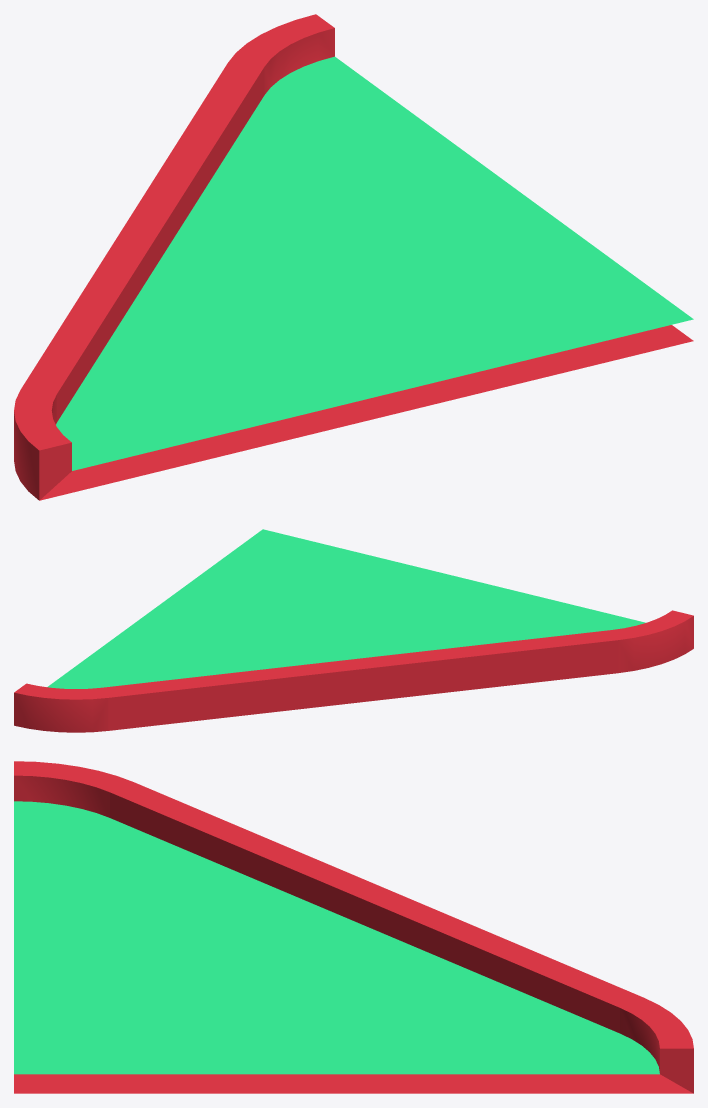
Rendered from skewLargeCornerOpen.fbx.
3 renders of one model, top to bottom at view 1: azimuth 30°, elevation 25°; view 2: azimuth 150°, elevation 25°; view 3: azimuth 270°, elevation 25°, orthographic. The views are drawn at different scales.
Parts seen in each view (by area): view 1: skewLargeCornerOpen; view 2: skewLargeCornerOpen; view 3: skewLargeCornerOpen.
Part boxes in pixels (x1,y1,x2,y2): skewLargeCornerOpen: (14,14,693,500); skewLargeCornerOpen: (14,529,693,732); skewLargeCornerOpen: (14,761,693,1093).
Size of the model in its own units: 200 by 200 by 14.67.
